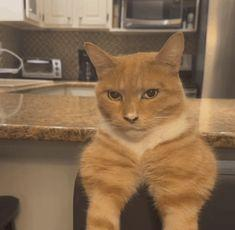kedo: (84, 32, 214, 230)
